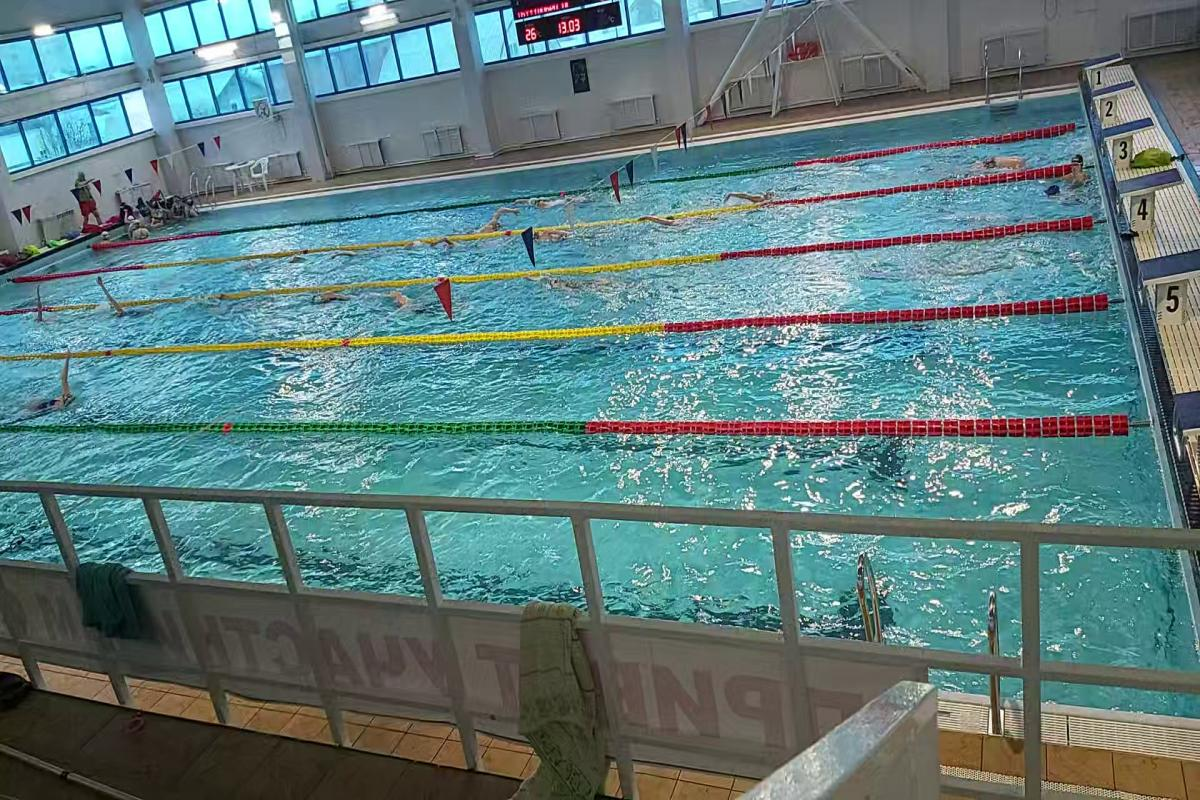swimmer: (28, 361, 95, 415), (91, 274, 161, 321), (637, 203, 697, 232), (966, 147, 1035, 172), (306, 282, 362, 312), (724, 179, 782, 205), (1063, 148, 1095, 190), (475, 207, 524, 233), (529, 192, 589, 209)
